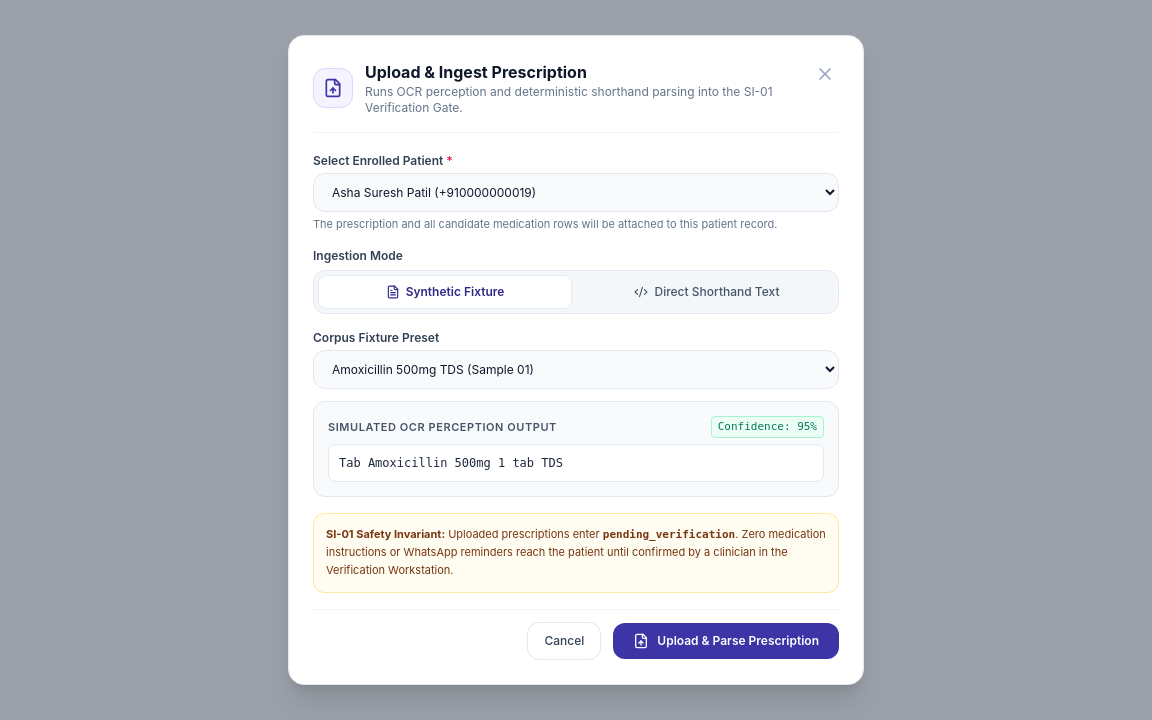
Test: UploadPrescriptionModal Component › 4. Switches between Synthetic Fixture and Direct Shorthand modes
The image size is (1152, 720).
Check: the dropdown labelled "Select Enrolled Patient *" is shown, box left=313, top=173, right=839, bottom=212
Check: the dropdown labelled "Corpus Fixture Preset" is shown, box left=313, top=350, right=839, bottom=389
Click Direct Shorthand tab
Click the button "Direct Shorthand Text". click: (707, 292)
box: left=580, top=275, right=834, bottom=309
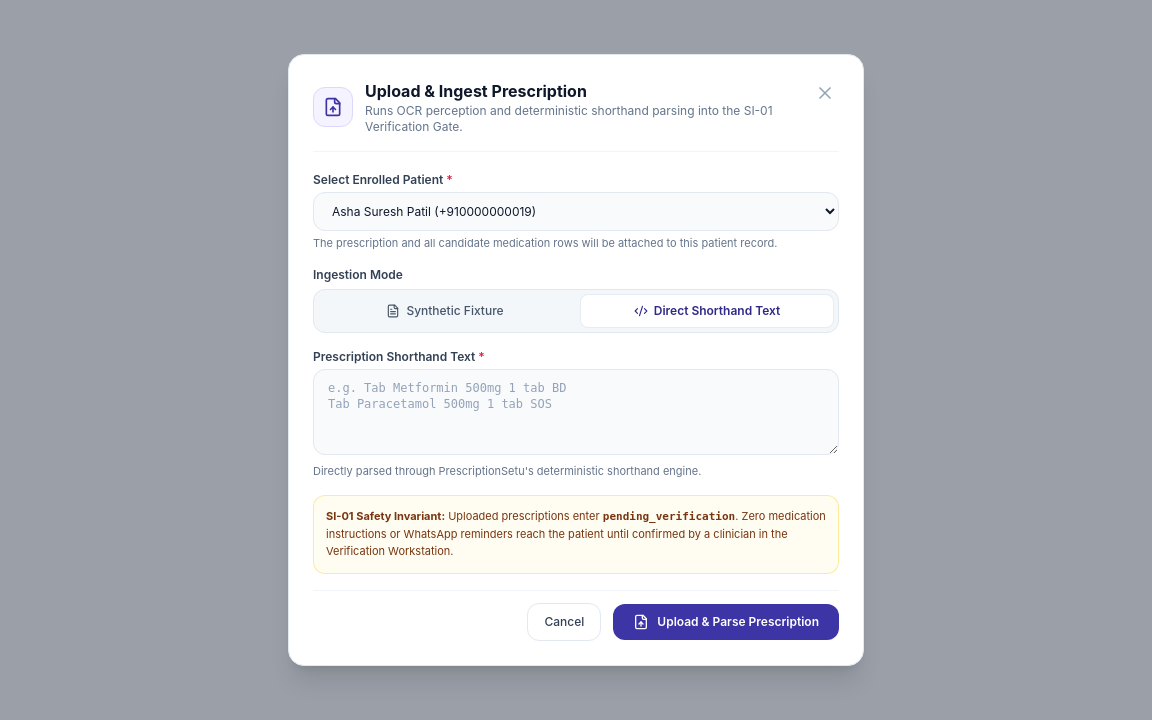
Check: the label labelled "Corpus Fixture Preset" is gone
Check: the text box labelled "Prescription Shorthand Text *" is shown, box left=313, top=369, right=839, bottom=455
Click back to Fixture mode
Click the button "Synthetic Fixture". click: (445, 311)
box: left=318, top=294, right=572, bottom=328
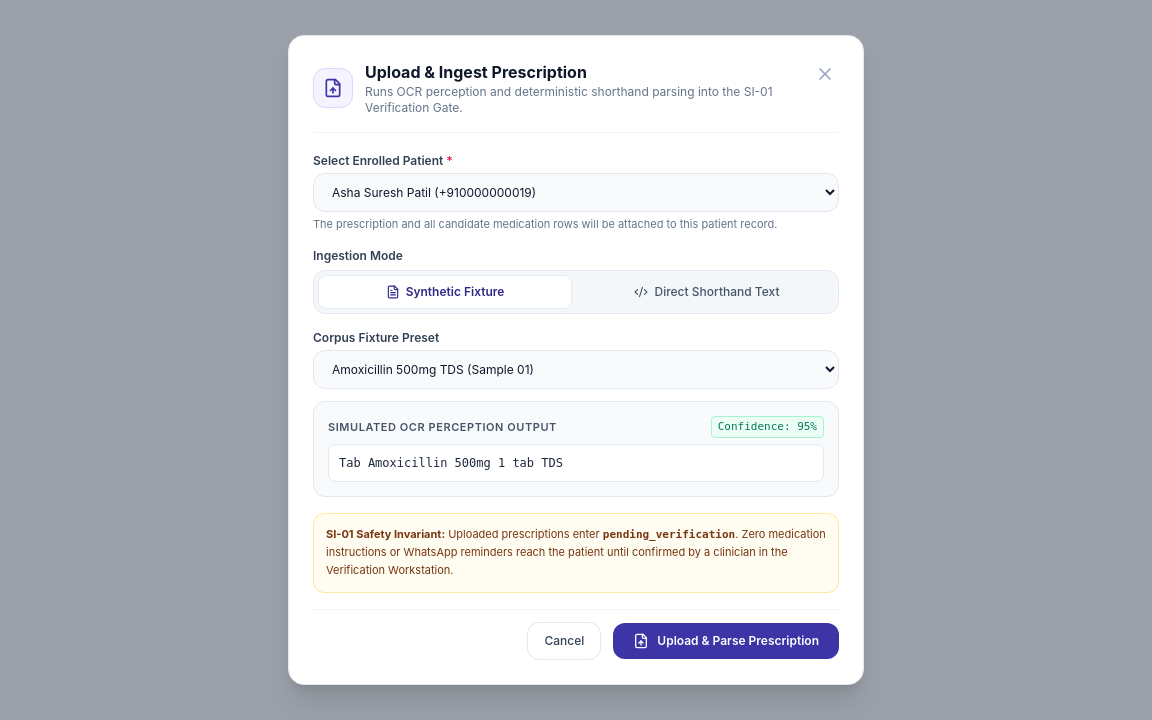
Check: the dropdown labelled "Corpus Fixture Preset" is shown, box left=313, top=350, right=839, bottom=389
